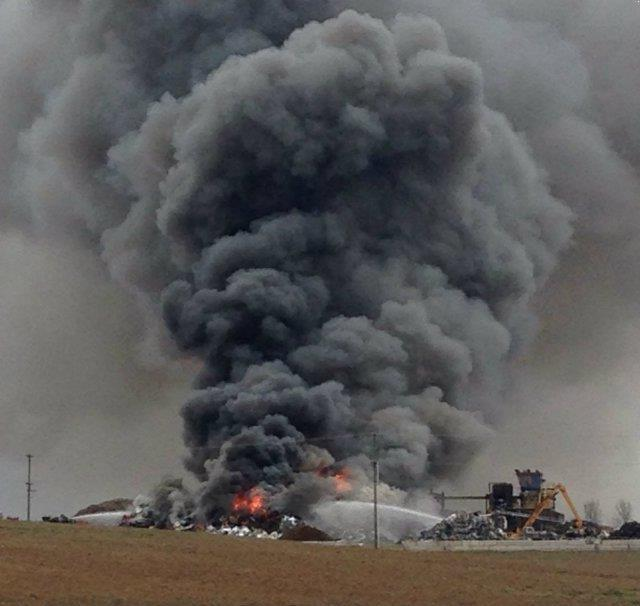Fire: (231, 489, 271, 519), (333, 472, 356, 496)
